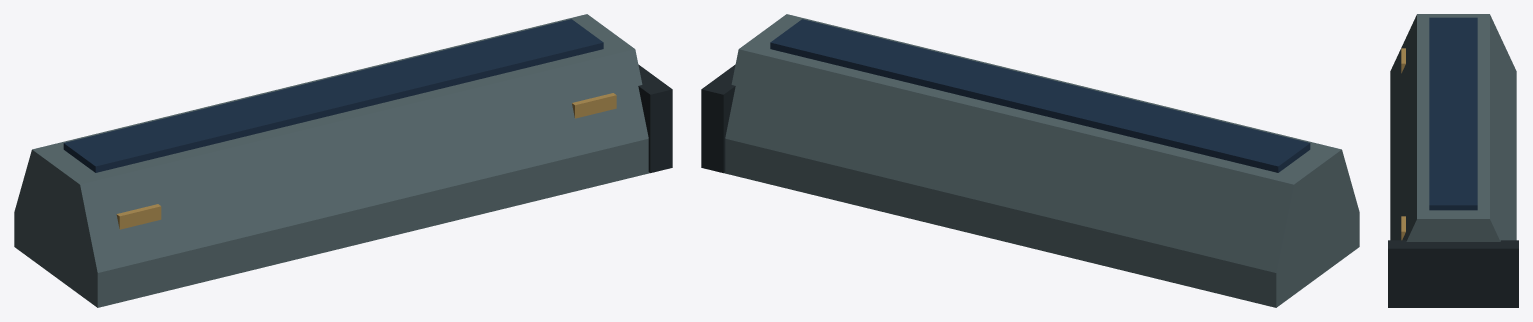
The model's file is ROAD_DIVIDER.shadow.glb.
3 renders of one model, left to right at view 1: azimuth 30°, elevation 25°; view 2: azimuth 150°, elevation 25°; view 3: azimuth 270°, elevation 25°, orthographic. The views are drawn at different scales.
Parts seen in each view (by area): view 1: Body_Mesh, EndCapPivot_Mesh; view 2: Body_Mesh, EndCapPivot_Mesh; view 3: Body_Mesh, EndCapPivot_Mesh.
Boxes of the visible parts, box(x1,y1,x2,y2) form: Body_Mesh: box(14, 14, 649, 307); EndCapPivot_Mesh: box(638, 64, 672, 172); Body_Mesh: box(724, 14, 1359, 307); EndCapPivot_Mesh: box(701, 64, 735, 172); Body_Mesh: box(1390, 14, 1516, 241); EndCapPivot_Mesh: box(1388, 240, 1518, 307).
Size of the model in its own units: 2.06 by 0.4025 by 0.54.
